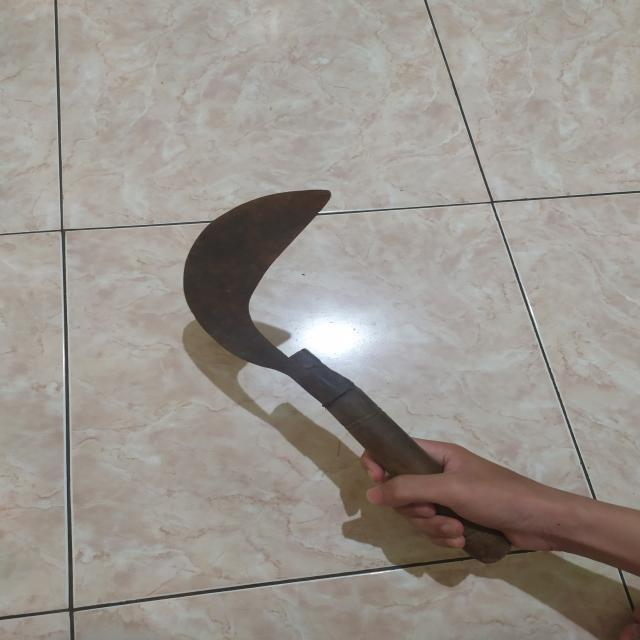Knife: (184, 190, 519, 564)
